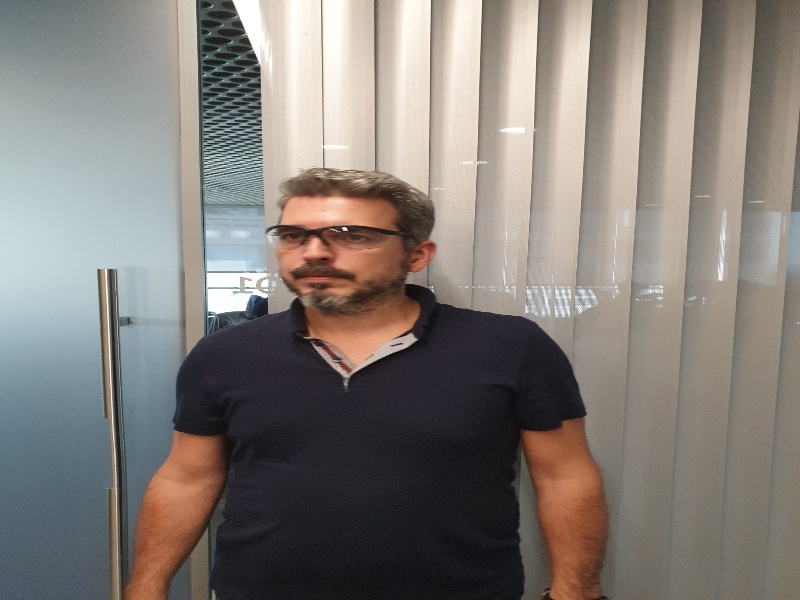Gozluk: (265, 224, 410, 250)
